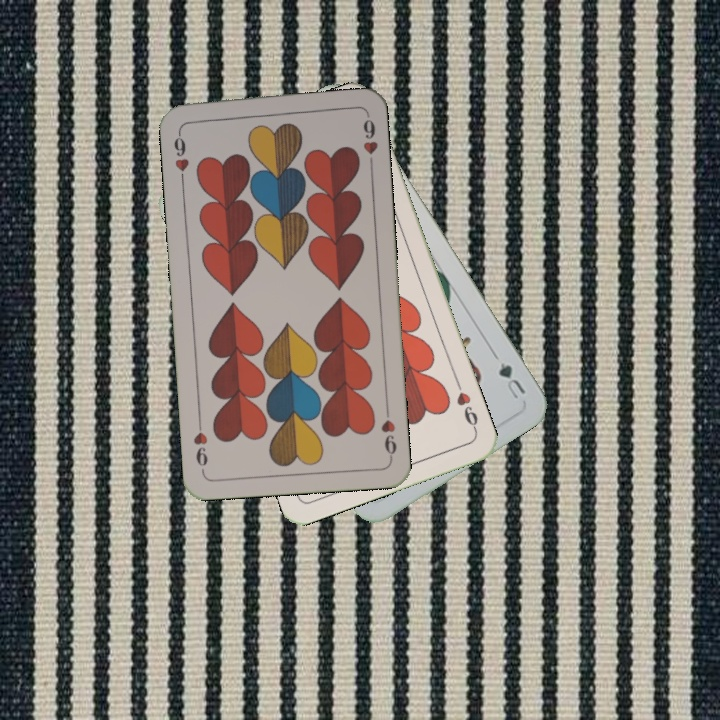GU: (494, 358, 529, 403)
H9: (169, 125, 192, 185), (452, 388, 481, 435), (377, 402, 399, 461)
